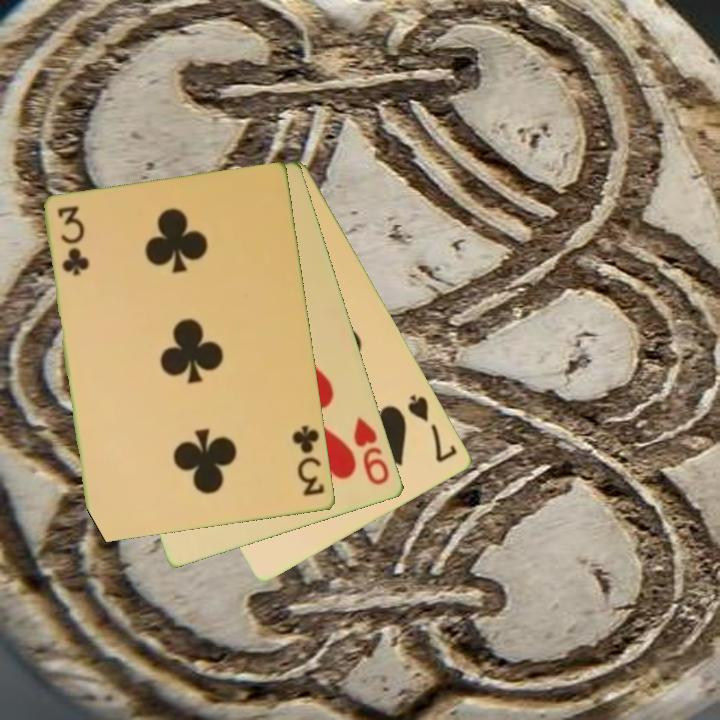3c: (289, 422, 328, 500), (55, 203, 90, 279)
7s: (404, 391, 461, 466)
9h: (350, 413, 393, 488)
